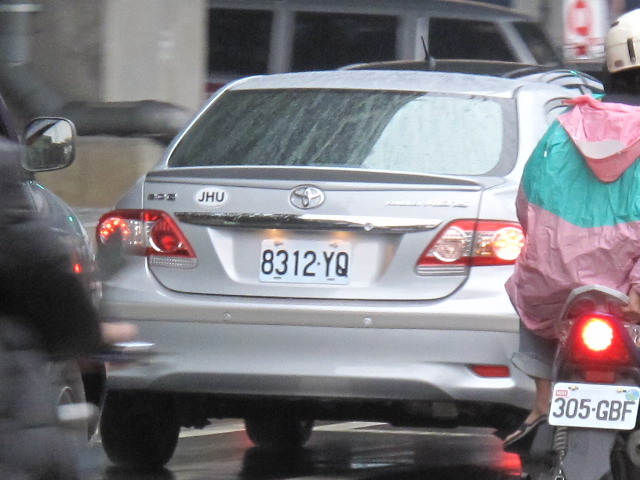plate: (545, 378, 639, 434), (257, 238, 354, 285)
